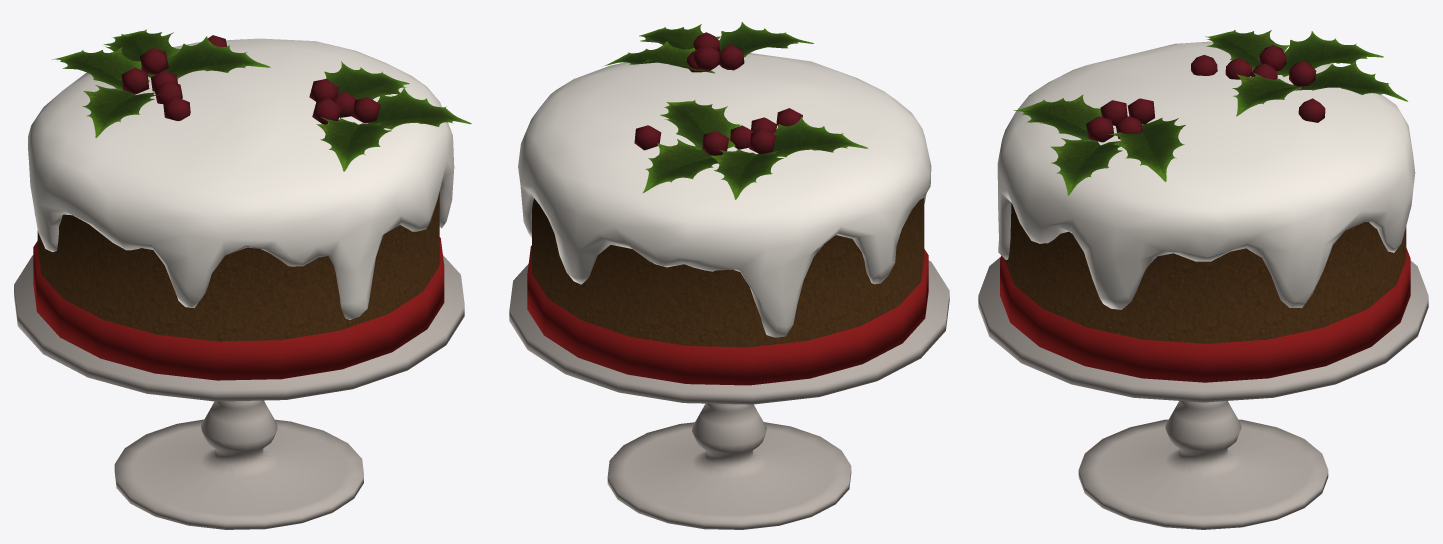
The model's file is christmas-cake-g41-low-poly.fbx.
3 views of the same model, side by side, from view 1: azimuth 30°, elevation 25°; view 2: azimuth 150°, elevation 25°; view 3: azimuth 270°, elevation 25° (orthographic). The views are drawn at different scales.
Visible parts, largest first — view 1: Christmas Cake_Christmas Cake_0; view 2: Christmas Cake_Christmas Cake_0; view 3: Christmas Cake_Christmas Cake_0.
Boxes of the visible parts, x1,y1,x2,y2 form: Christmas Cake_Christmas Cake_0: (14,29,471,529); Christmas Cake_Christmas Cake_0: (509,22,949,529); Christmas Cake_Christmas Cake_0: (978,30,1428,529).
Size of the model in its own units: 41662 by 41416 by 41662.
1 material, 1 textured.
